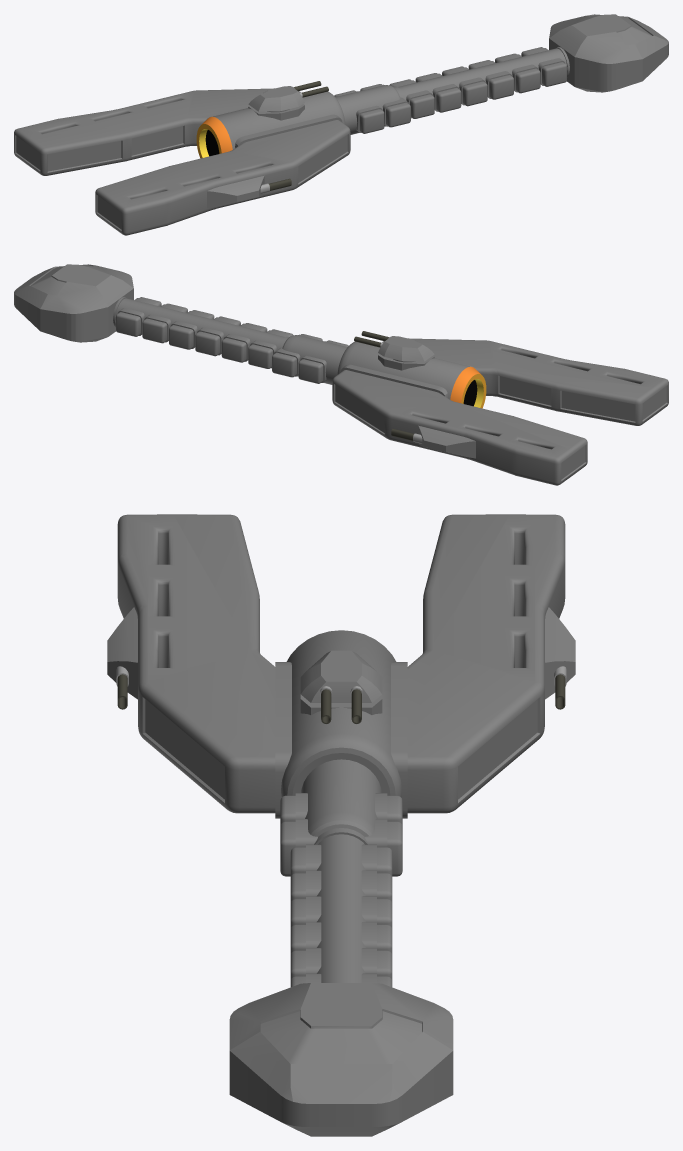
File: Arth Ship.FBX
3 views of the same model, one above another, from view 1: azimuth 30°, elevation 25°; view 2: azimuth 150°, elevation 25°; view 3: azimuth 270°, elevation 25° (orthographic). The views are drawn at different scales.
Parts seen in each view (by area): view 1: Wing - Right, Wing - Left, Cockpit, Center Rear, Center Front, Center Middle, Missile Launcher Turret - Right, Laser Turret, Pod Cube 09, Pod Cube 13, Pod Cube 01, Pod Cube 07 (+5 smaller); view 2: Wing - Left, Wing - Right, Cockpit, Center Rear, Center Front, Center Middle, Missile Launcher Turret - Left, Laser Turret, Pod Cube 10, Pod Cube 14, Pod Cube 02, Pod Cube 08 (+5 smaller); view 3: Wing - Left, Wing - Right, Cockpit, Center Rear, Center Front, Center Middle, Laser Turret, Missile Launcher Turret - Left, Missile Launcher Turret - Right.
Boxes of the visible parts, x1=… form: Wing - Right: x1=95, y1=114, x2=350, y2=235; Wing - Left: x1=14, y1=88, x2=300, y2=175; Cockpit: x1=549, y1=14, x2=668, y2=92; Center Rear: x1=196, y1=91, x2=345, y2=158; Center Front: x1=398, y1=47, x2=569, y2=100; Center Middle: x1=335, y1=85, x2=405, y2=134; Missile Launcher Turret - Right: x1=207, y1=175, x2=264, y2=208; Laser Turret: x1=248, y1=86, x2=304, y2=111; Pod Cube 09: x1=462, y1=81, x2=487, y2=106; Pod Cube 13: x1=515, y1=68, x2=540, y2=93; Pod Cube 01: x1=359, y1=109, x2=384, y2=133; Pod Cube 07: x1=436, y1=88, x2=461, y2=112; Wing - Left: x1=332, y1=364, x2=587, y2=485; Wing - Right: x1=382, y1=338, x2=668, y2=425; Cockpit: x1=14, y1=264, x2=133, y2=342; Center Rear: x1=337, y1=341, x2=486, y2=408; Center Front: x1=113, y1=297, x2=284, y2=350; Center Middle: x1=277, y1=335, x2=347, y2=384; Missile Launcher Turret - Left: x1=418, y1=425, x2=475, y2=458; Laser Turret: x1=378, y1=336, x2=434, y2=361; Pod Cube 10: x1=195, y1=331, x2=220, y2=356; Pod Cube 14: x1=142, y1=318, x2=167, y2=343; Pod Cube 02: x1=298, y1=359, x2=323, y2=383; Pod Cube 08: x1=221, y1=338, x2=246, y2=362; Wing - Left: x1=391, y1=514, x2=565, y2=818; Wing - Right: x1=117, y1=514, x2=291, y2=818; Cockpit: x1=229, y1=983, x2=453, y2=1136; Center Rear: x1=281, y1=630, x2=401, y2=797; Center Front: x1=317, y1=834, x2=365, y2=982; Center Middle: x1=301, y1=759, x2=381, y2=844; Laser Turret: x1=300, y1=650, x2=382, y2=702; Missile Launcher Turret - Left: x1=545, y1=607, x2=575, y2=699; Missile Launcher Turret - Right: x1=107, y1=607, x2=137, y2=699.
Bounding box in the file's own units: 134 × 14.5 × 46.
